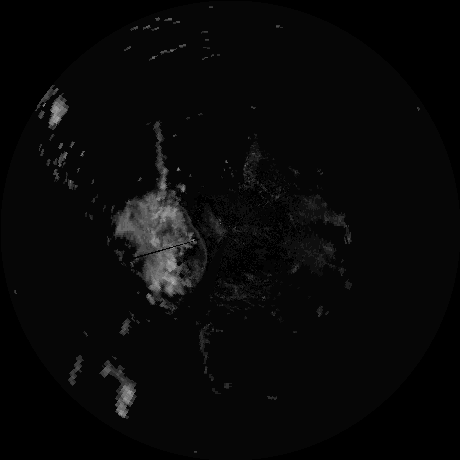frontgust: (197, 322, 215, 392), (154, 123, 170, 192), (195, 229, 209, 279)
